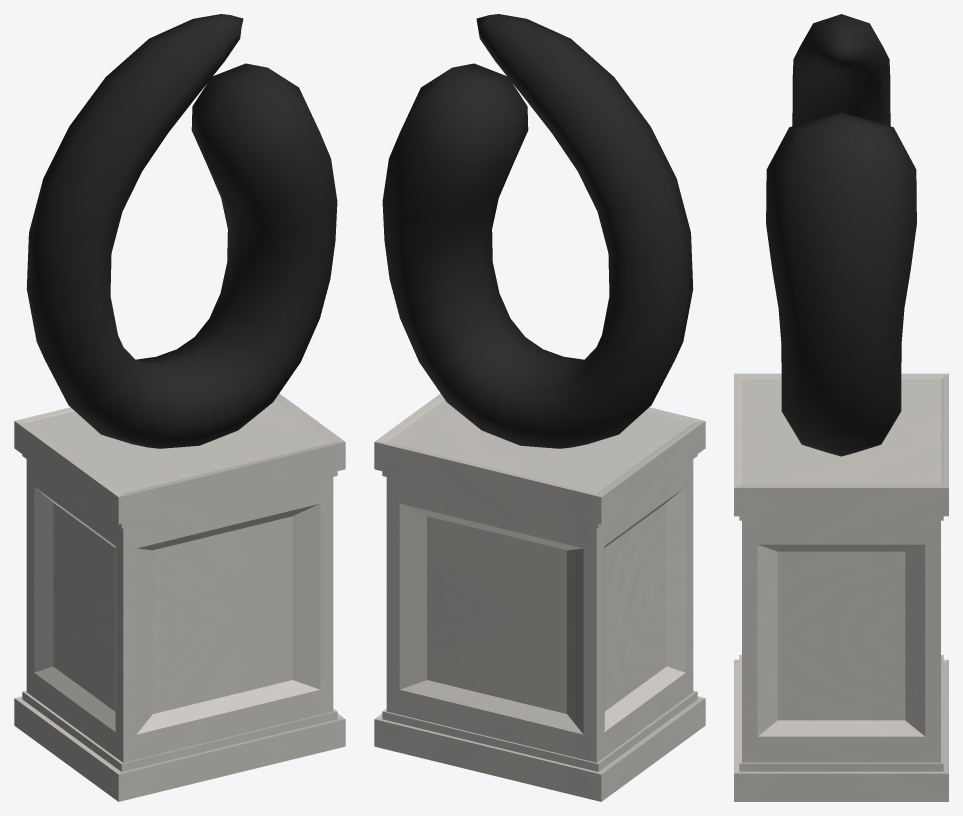
File: modern statue.fbx
3 renders of one model, left to right at view 1: azimuth 30°, elevation 25°; view 2: azimuth 150°, elevation 25°; view 3: azimuth 270°, elevation 25°, orthographic. The views are drawn at different scales.
Visible parts, largest first — view 1: modern statue; view 2: modern statue; view 3: modern statue.
Part boxes in pixels (box(x1,y1,x2,y2)): modern statue: box(14, 14, 345, 801); modern statue: box(374, 14, 705, 801); modern statue: box(734, 14, 948, 801).
Bounding box in the file's own units: 89.23 × 206 × 54.9.
2 materials, 2 textured.
